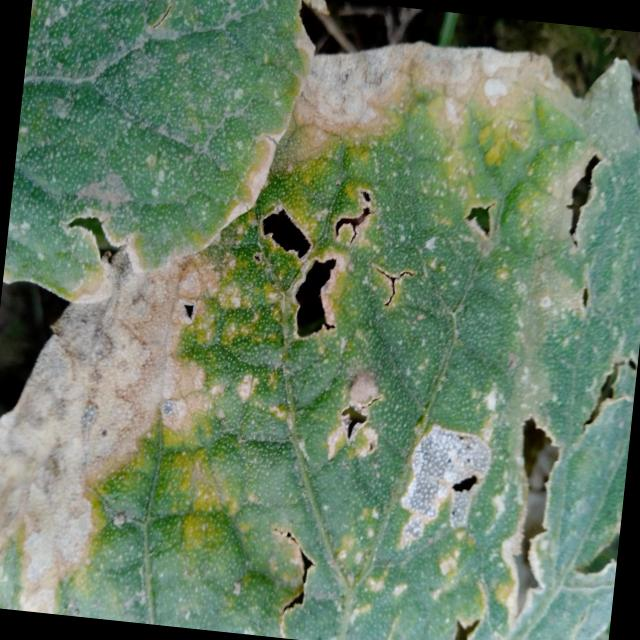cucumber_anthracnose: (55, 96, 640, 640)
